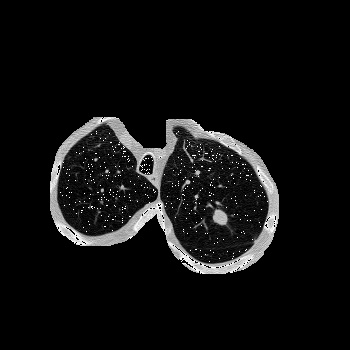PN: (212, 210, 228, 226)
